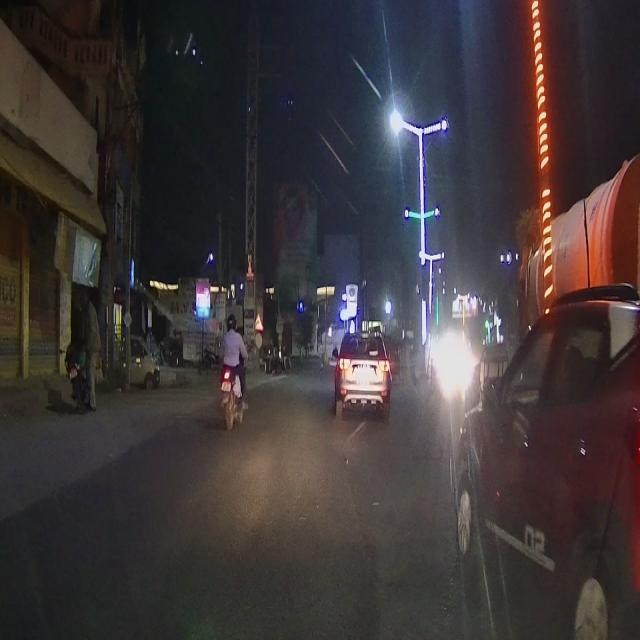right-hand-curve: (254, 310, 266, 330)
